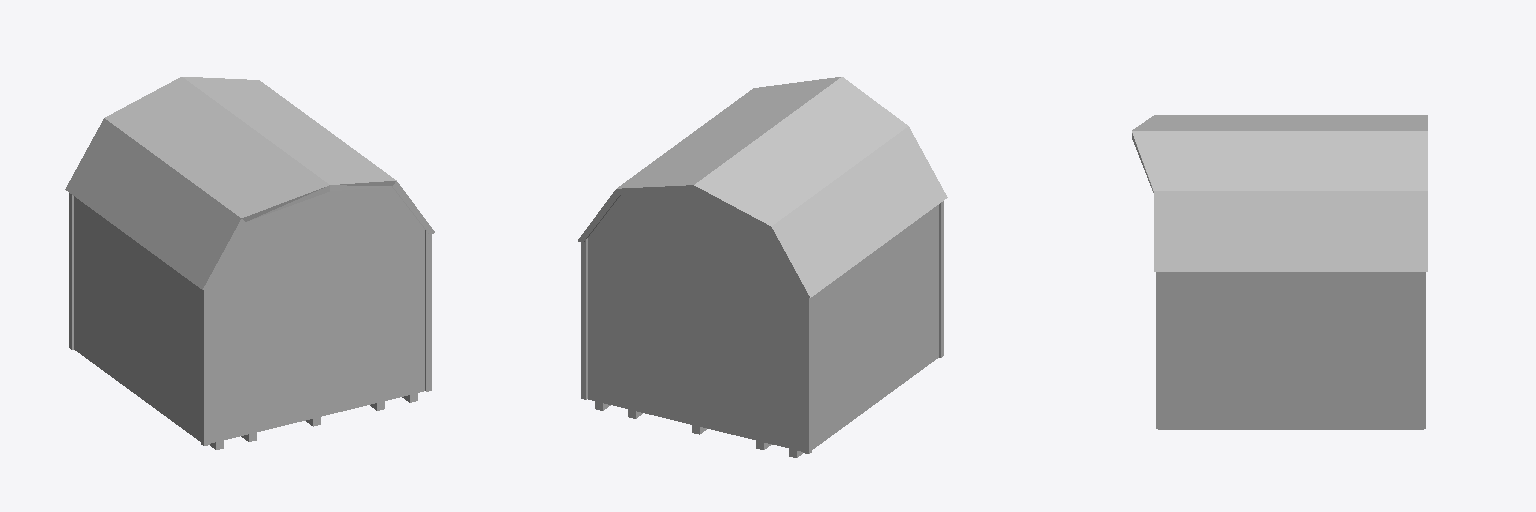
Rendered from High Wall Barns_10x10.obj.
The picture shows the model from 3 angles: view 1: azimuth 30°, elevation 25°; view 2: azimuth 150°, elevation 25°; view 3: azimuth 270°, elevation 25°; orthographic projection.
Visible parts, largest first — view 1: High Wall Barns_10x10.obj; view 2: High Wall Barns_10x10.obj; view 3: High Wall Barns_10x10.obj.
Boxes of the visible parts, x1,y1,x2,y2 form: High Wall Barns_10x10.obj: [65, 77, 434, 449]; High Wall Barns_10x10.obj: [578, 77, 947, 457]; High Wall Barns_10x10.obj: [1132, 115, 1427, 429].
Bounding box in the file's own units: 3.09 × 3.17 × 3.4.